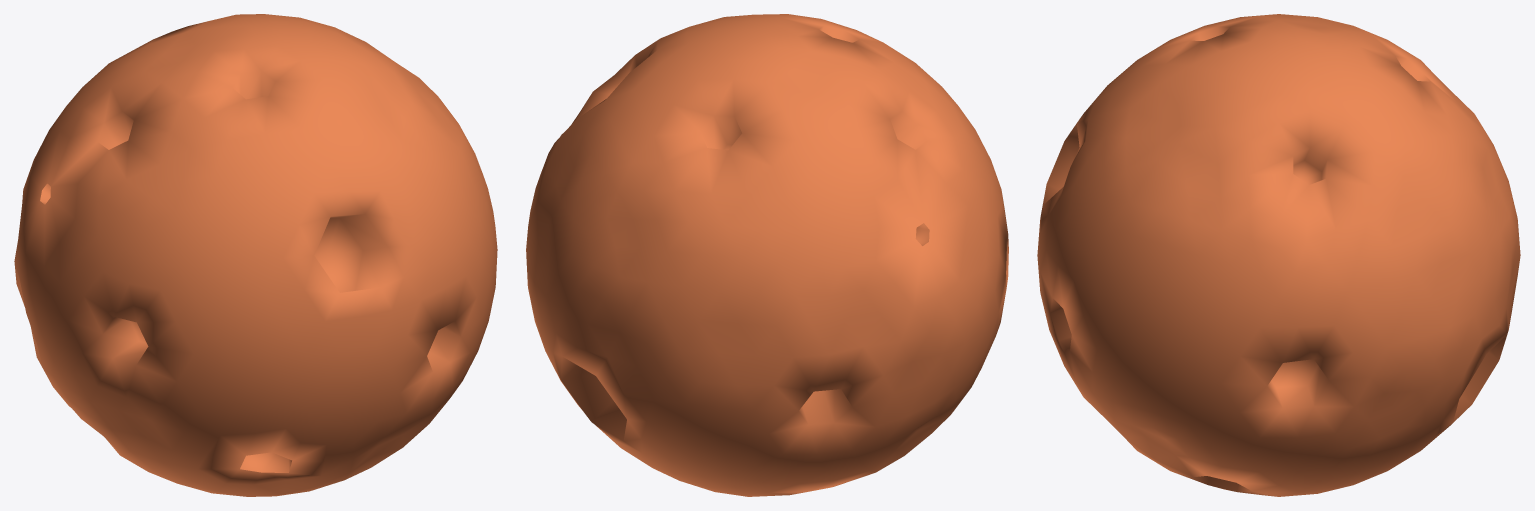
Rendered from daniel_planet_01.fbx.
3 renders of one model, left to right at view 1: azimuth 30°, elevation 25°; view 2: azimuth 150°, elevation 25°; view 3: azimuth 270°, elevation 25°, orthographic.
Visible parts, largest first — view 1: Icosphere; view 2: Icosphere; view 3: Icosphere.
Part boxes in pixels (bbox=[...]): Icosphere: bbox=[14, 14, 497, 496]; Icosphere: bbox=[526, 14, 1008, 496]; Icosphere: bbox=[1037, 14, 1520, 496].
Bounding box in the file's own units: 199 × 200 × 200.
